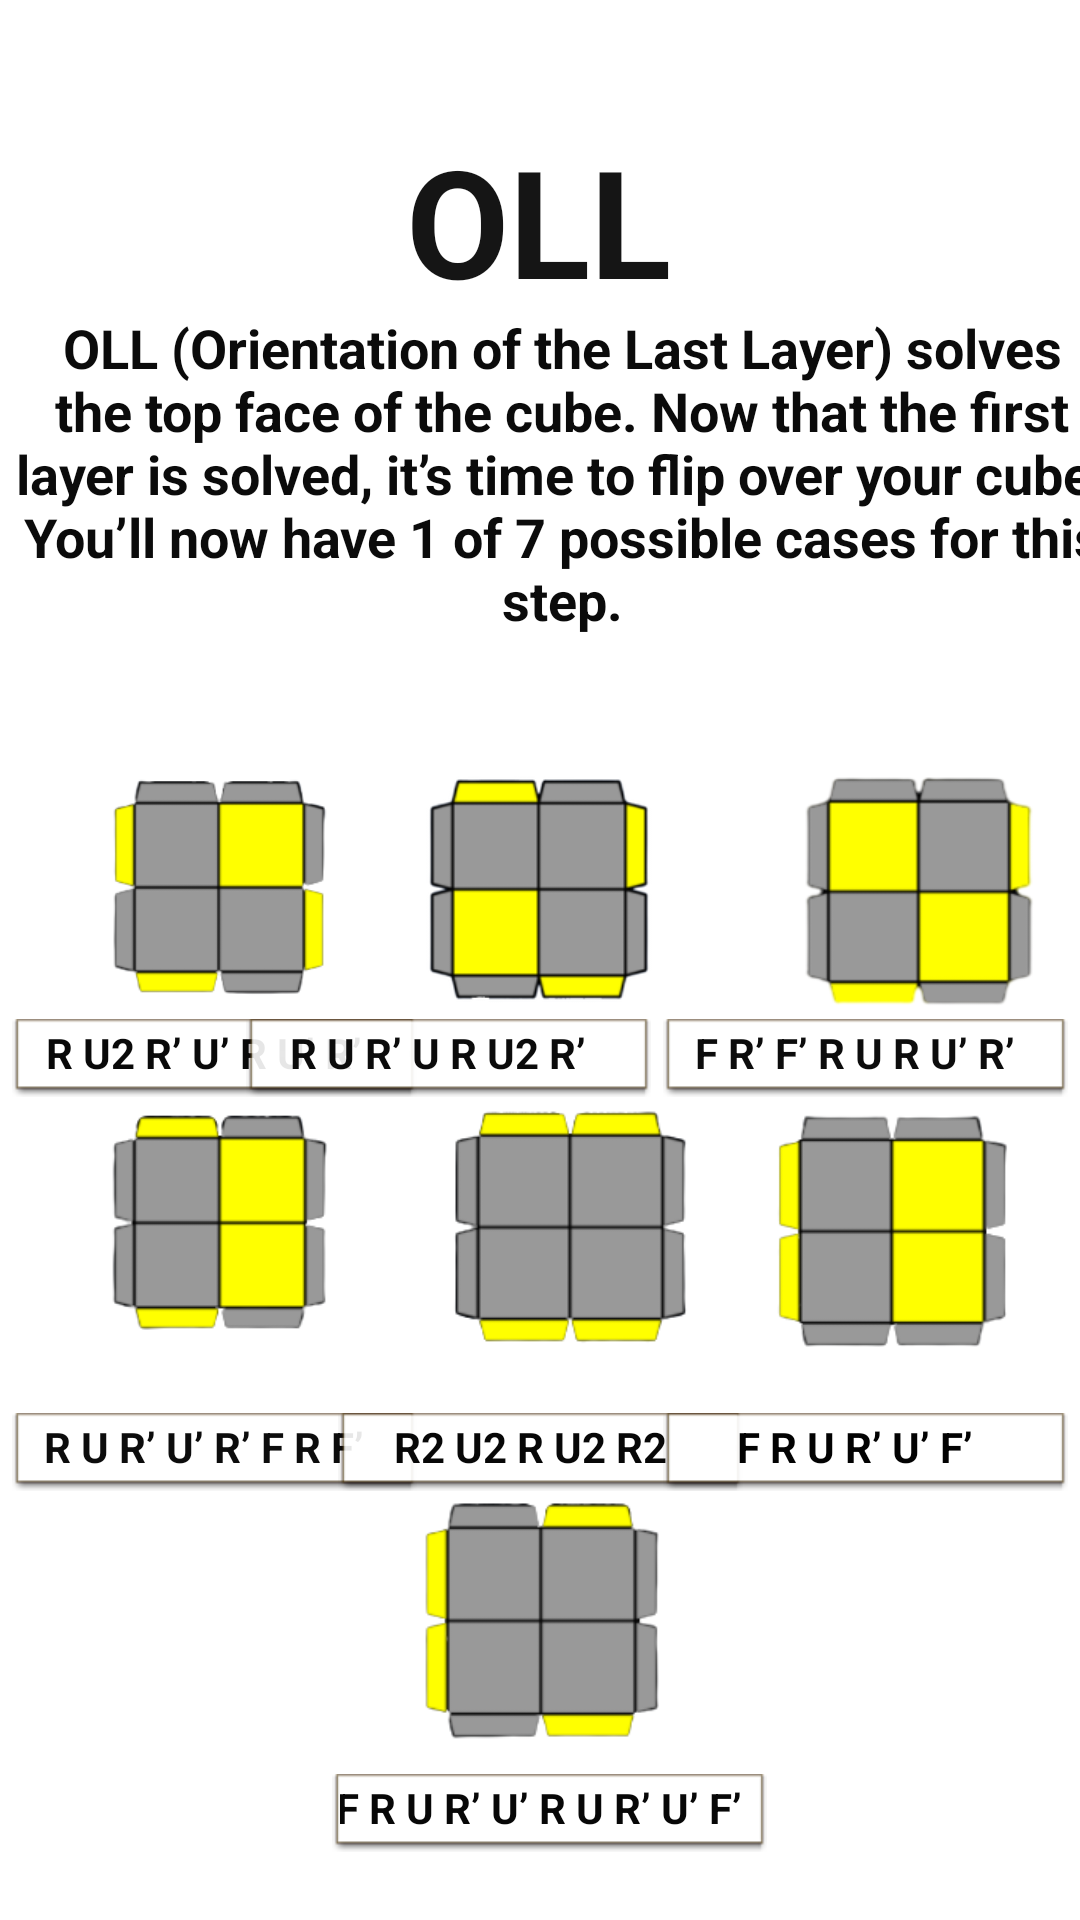

Screen size 1080x1920. Icon name, then its box in pixels as (x1, y1, x2, y2):
sune: (393, 779, 648, 1048)
